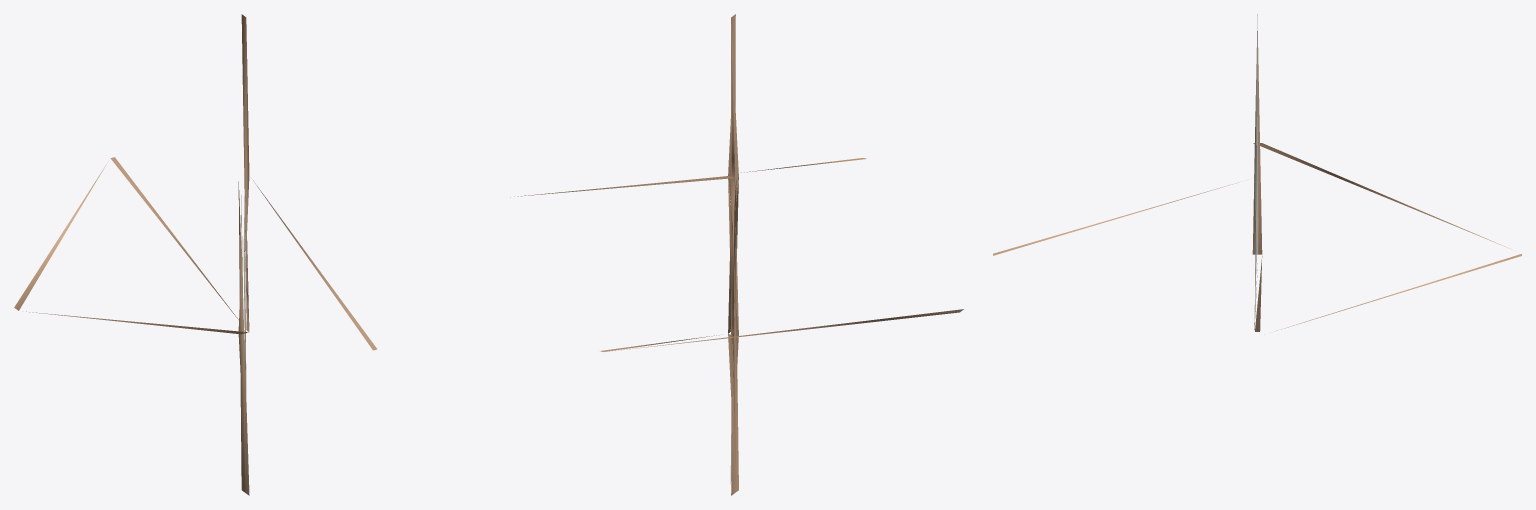
The model's file is equip_weapon_maple_longbow.glb.
3 renders of one model, left to right at view 1: azimuth 30°, elevation 25°; view 2: azimuth 150°, elevation 25°; view 3: azimuth 270°, elevation 25°, orthographic.
Parts seen in each view (by area): view 1: equip_weapon_maple_longbow; view 2: equip_weapon_maple_longbow; view 3: equip_weapon_maple_longbow.
Boxes of the visible parts, x1,y1,x2,y2 form: equip_weapon_maple_longbow: [14, 14, 377, 495]; equip_weapon_maple_longbow: [510, 14, 963, 495]; equip_weapon_maple_longbow: [993, 14, 1521, 331].
Size of the model in its own units: 2 by 2 by 2.
